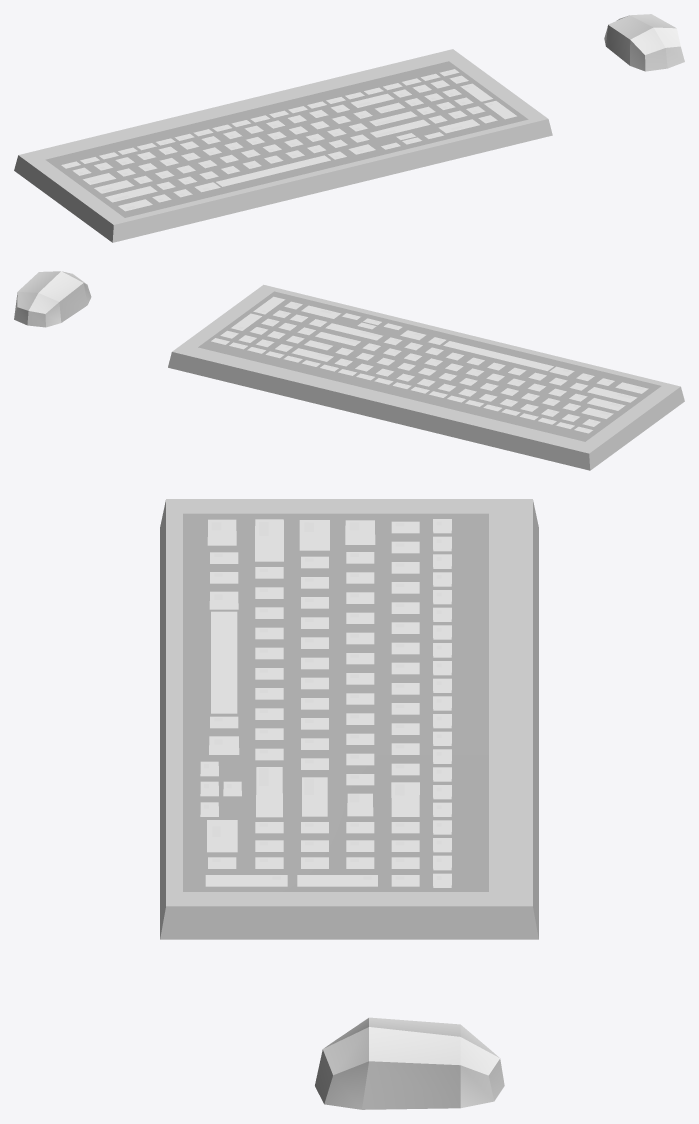
File: electronics_029.glb
3 renders of one model, top to bottom at view 1: azimuth 30°, elevation 25°; view 2: azimuth 150°, elevation 25°; view 3: azimuth 270°, elevation 25°, orthographic. The views are drawn at different scales.
Visible parts, largest first — view 1: electronics_029; view 2: electronics_029; view 3: electronics_029.
Part boxes in pixels (<box>): electronics_029: <box>14,14,684,242</box>; electronics_029: <box>14,271,684,470</box>; electronics_029: <box>160,499,538,1109</box>.
Size of the model in its own units: 0.6132 by 0.029 by 0.1688.
1 material, 1 textured.
